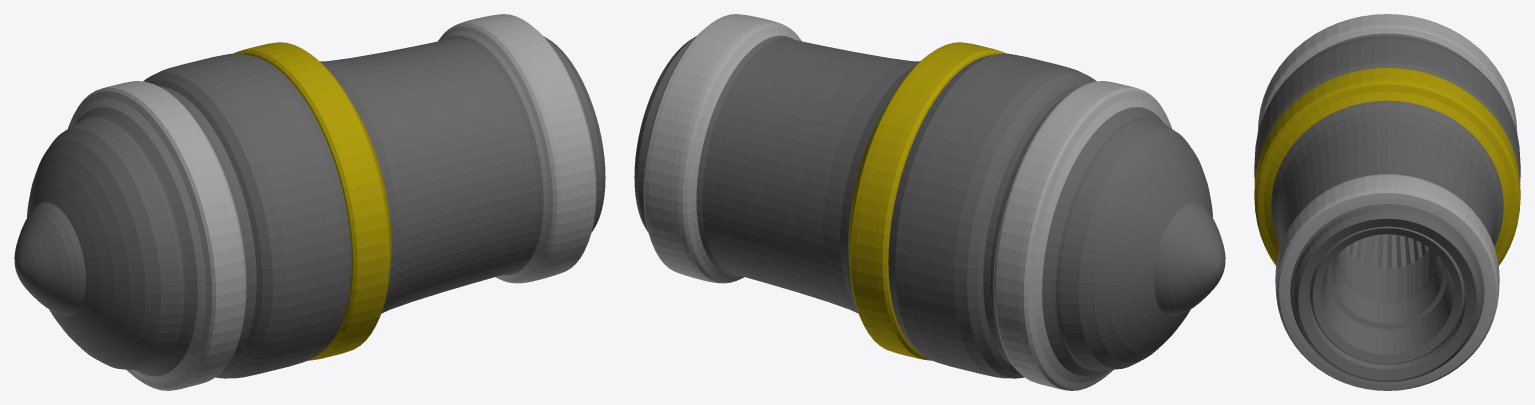
The model's file is CañonCoC.fbx.
3 views of the same model, side by side, from view 1: azimuth 30°, elevation 25°; view 2: azimuth 150°, elevation 25°; view 3: azimuth 270°, elevation 25° (orthographic). The views are drawn at different scales.
Visible parts, largest first — view 1: Cañon_03, Cañon_02; view 2: Cañon_03, Cañon_02; view 3: Cañon_03, Cañon_02, Cañon_01.
Boxes of the visible parts, x1,y1,x2,y2 form: Cañon_03: [14, 14, 605, 390]; Cañon_02: [16, 53, 351, 378]; Cañon_03: [634, 14, 1225, 390]; Cañon_02: [888, 53, 1223, 378]; Cañon_03: [1254, 14, 1520, 390]; Cañon_02: [1254, 36, 1520, 364]; Cañon_01: [1327, 234, 1447, 328].
Bounding box in the file's own units: 600 × 311 × 311.
